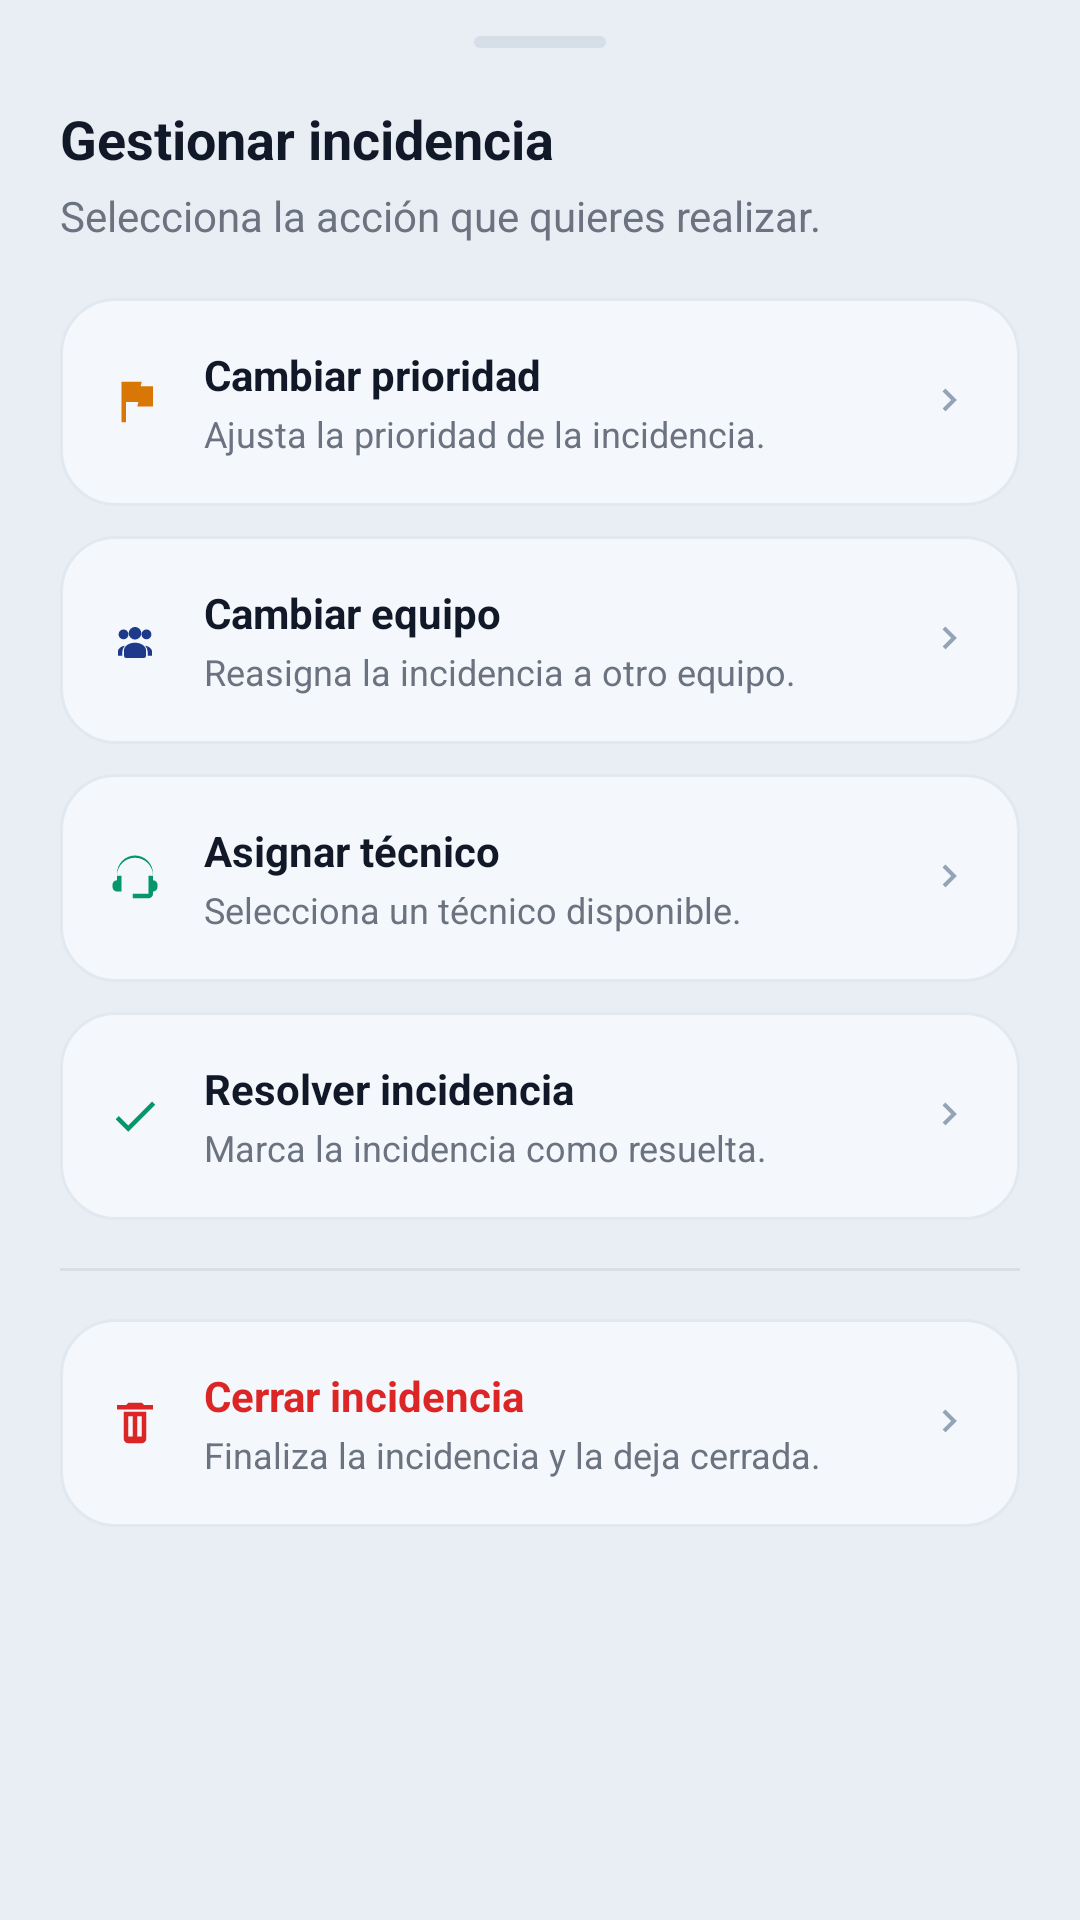

Point at icon controls on the screen. Image size 1080 x 1920, points as [x,y].
delete soft: [135,1423]
history flag: [137,402]
home team: [135,642]
role support: [135,877]
